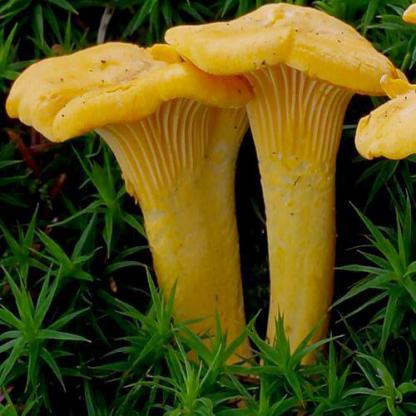chanterelle: (164, 4, 408, 368), (5, 40, 255, 374)
